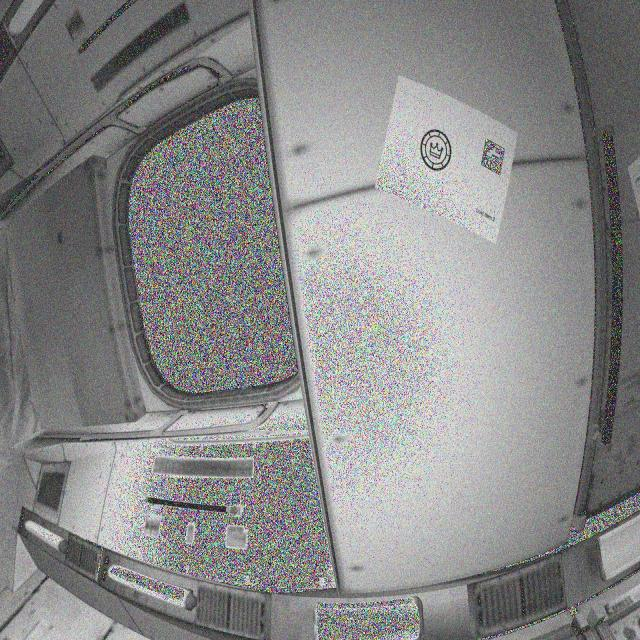coin: (417, 121, 460, 181)
